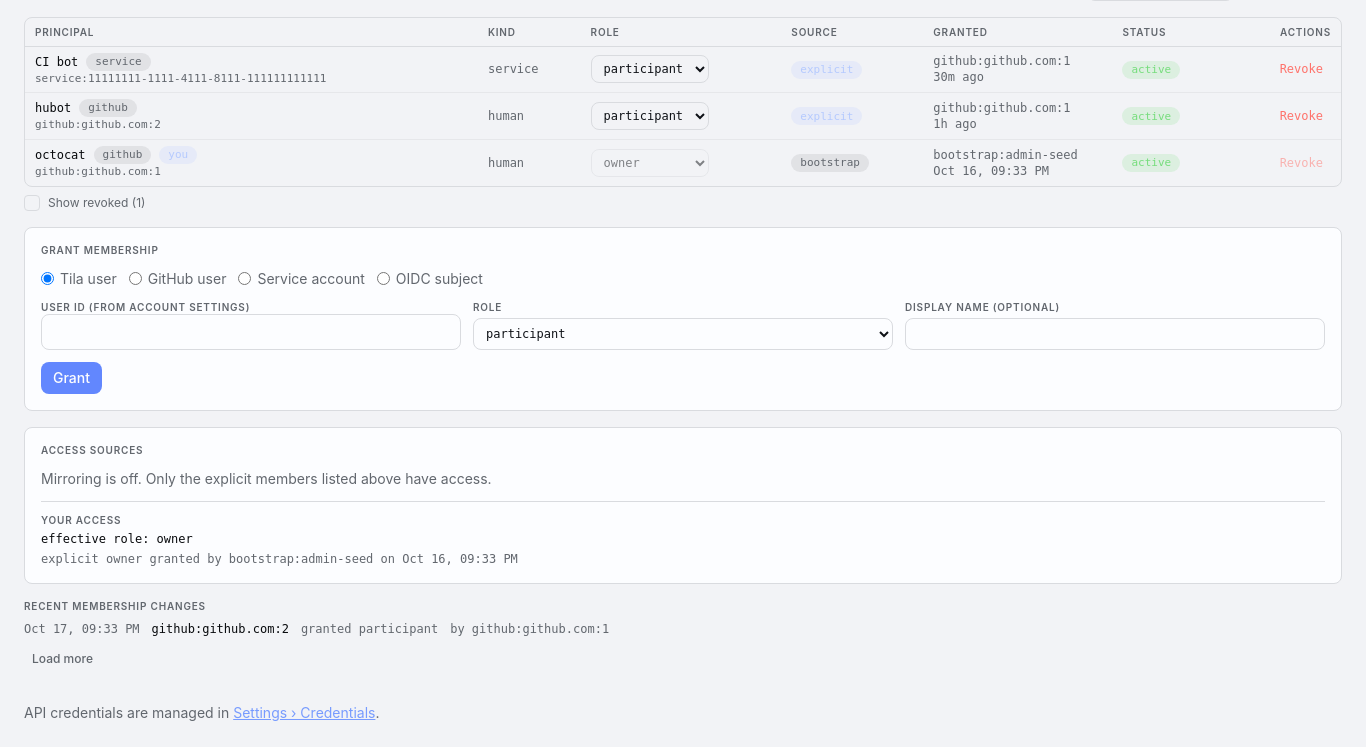
SettingsPage failure states › a failed 'load more' keeps the button so the page can be retried
The image size is (1366, 747).
(page scrolled)
Step 1. Click the button "Load more" → coordinates (62, 659), box [24,647,101,671]
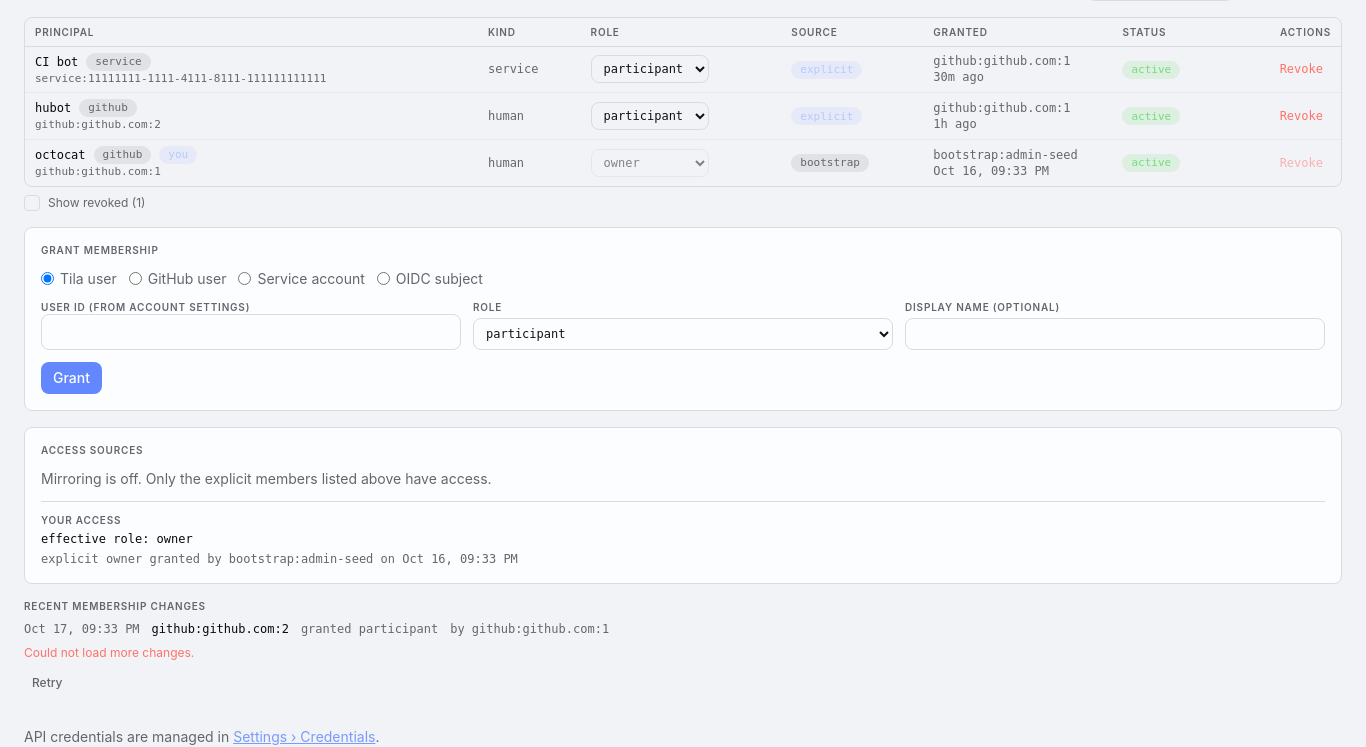
Expected: the button "Retry" is enabled, [24,671,70,695]
Expected: the text "Could not load more changes." is shown, [24,645,194,660]
